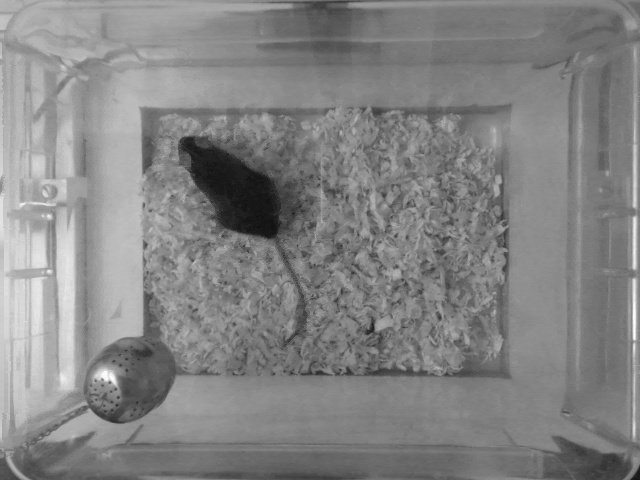mice: (177, 134, 308, 345)
